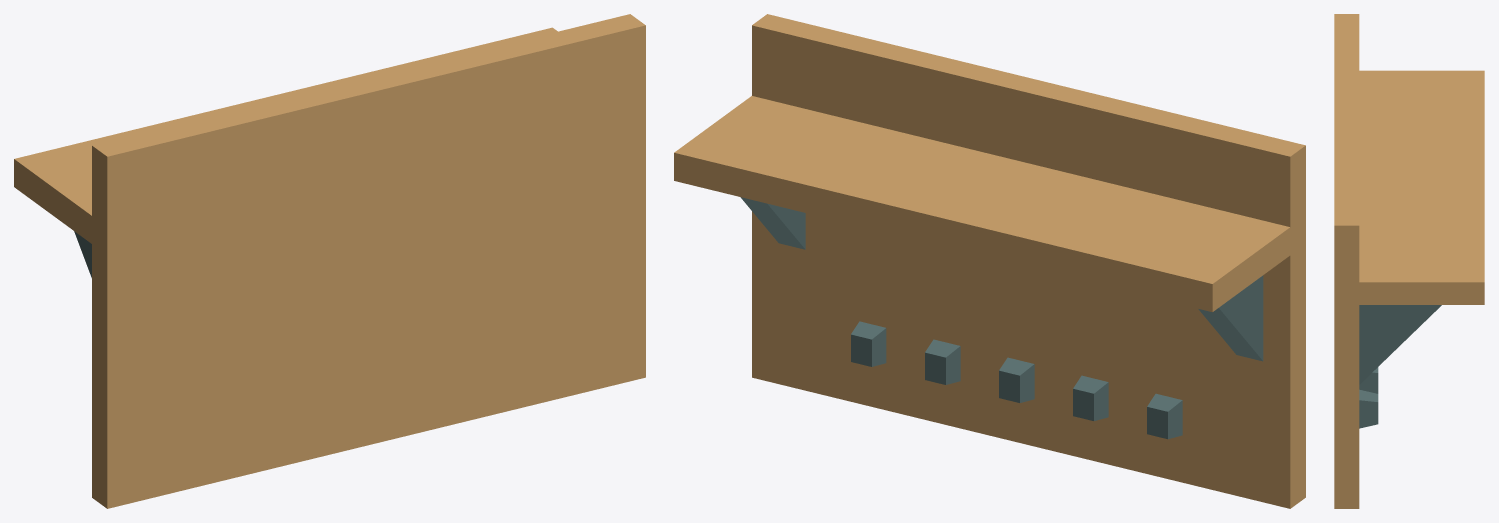
The model's file is coatRack.glb.
3 views of the same model, side by side, from view 1: azimuth 30°, elevation 25°; view 2: azimuth 150°, elevation 25°; view 3: azimuth 270°, elevation 25° (orthographic). The views are drawn at different scales.
Bounding box in the file's own units: 4.48 × 2.8 × 1.34.
